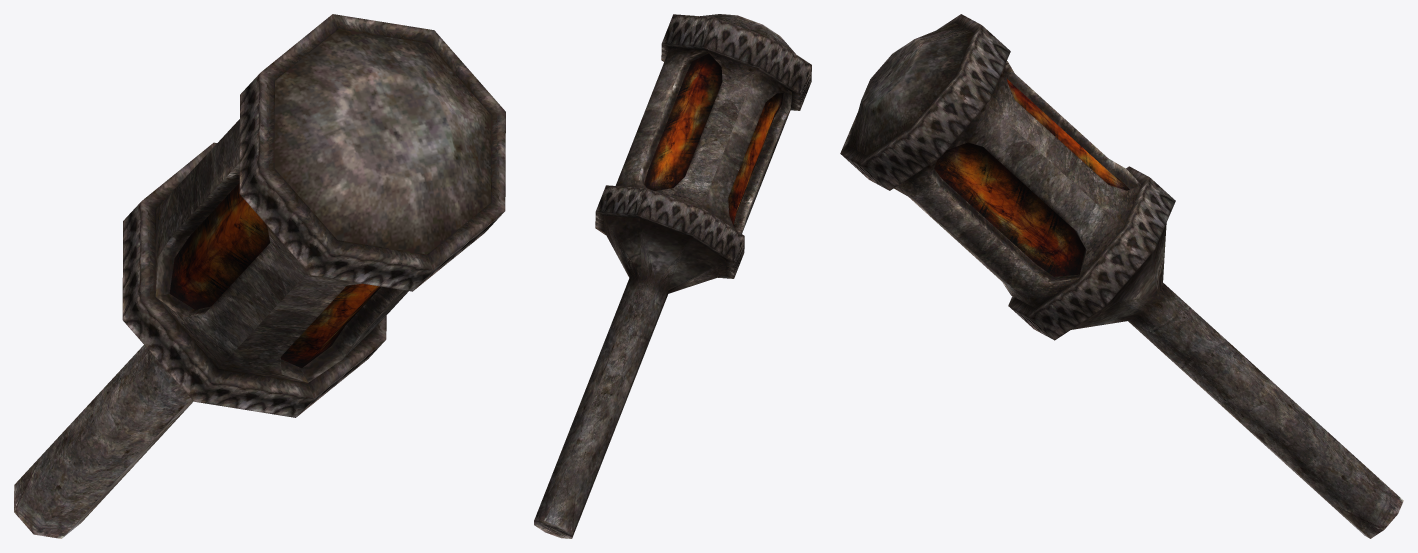
File: choir_pillar_lantern.dae
The picture shows the model from 3 angles, left to right: view 1: azimuth 30°, elevation 25°; view 2: azimuth 150°, elevation 25°; view 3: azimuth 270°, elevation 25°; orthographic projection. The views are drawn at different scales.
Visible parts, largest first — view 1: pCylinder1; view 2: pCylinder1; view 3: pCylinder1.
Boxes of the visible parts, x1,y1,x2,y2 form: pCylinder1: (14,14,505,538); pCylinder1: (534,14,811,538); pCylinder1: (840,14,1403,538).
Bounding box in the file's own units: 0.3243 × 0.9112 × 0.9112.
